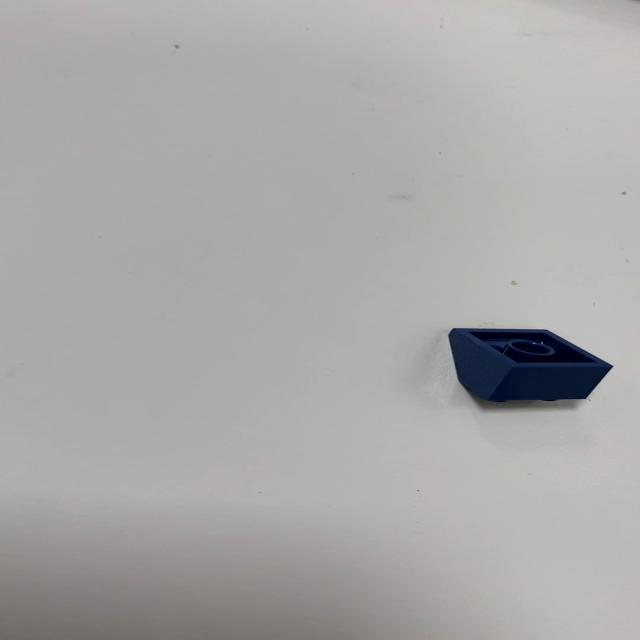P2x2x1: (444, 326, 610, 403)
